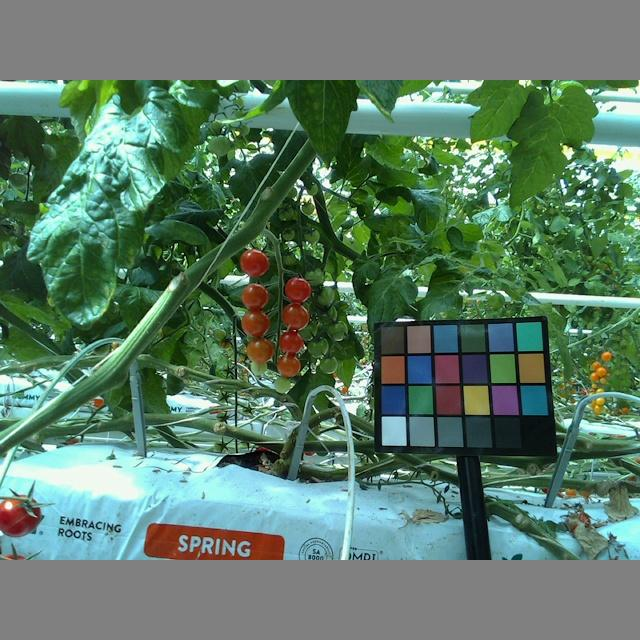green: (312, 285, 339, 307), (208, 137, 232, 158), (306, 337, 330, 357), (328, 323, 349, 340), (319, 357, 339, 374), (304, 227, 321, 246), (278, 225, 297, 239), (306, 268, 323, 283), (273, 378, 291, 392), (251, 363, 270, 375), (278, 206, 294, 220), (280, 251, 296, 265), (304, 200, 315, 212), (307, 185, 318, 195)
pink: (239, 307, 272, 336), (240, 250, 270, 280), (280, 302, 310, 328), (244, 337, 276, 361), (285, 276, 313, 302), (241, 285, 269, 306), (276, 355, 302, 376), (280, 333, 304, 354)
red: (1, 493, 44, 538)
